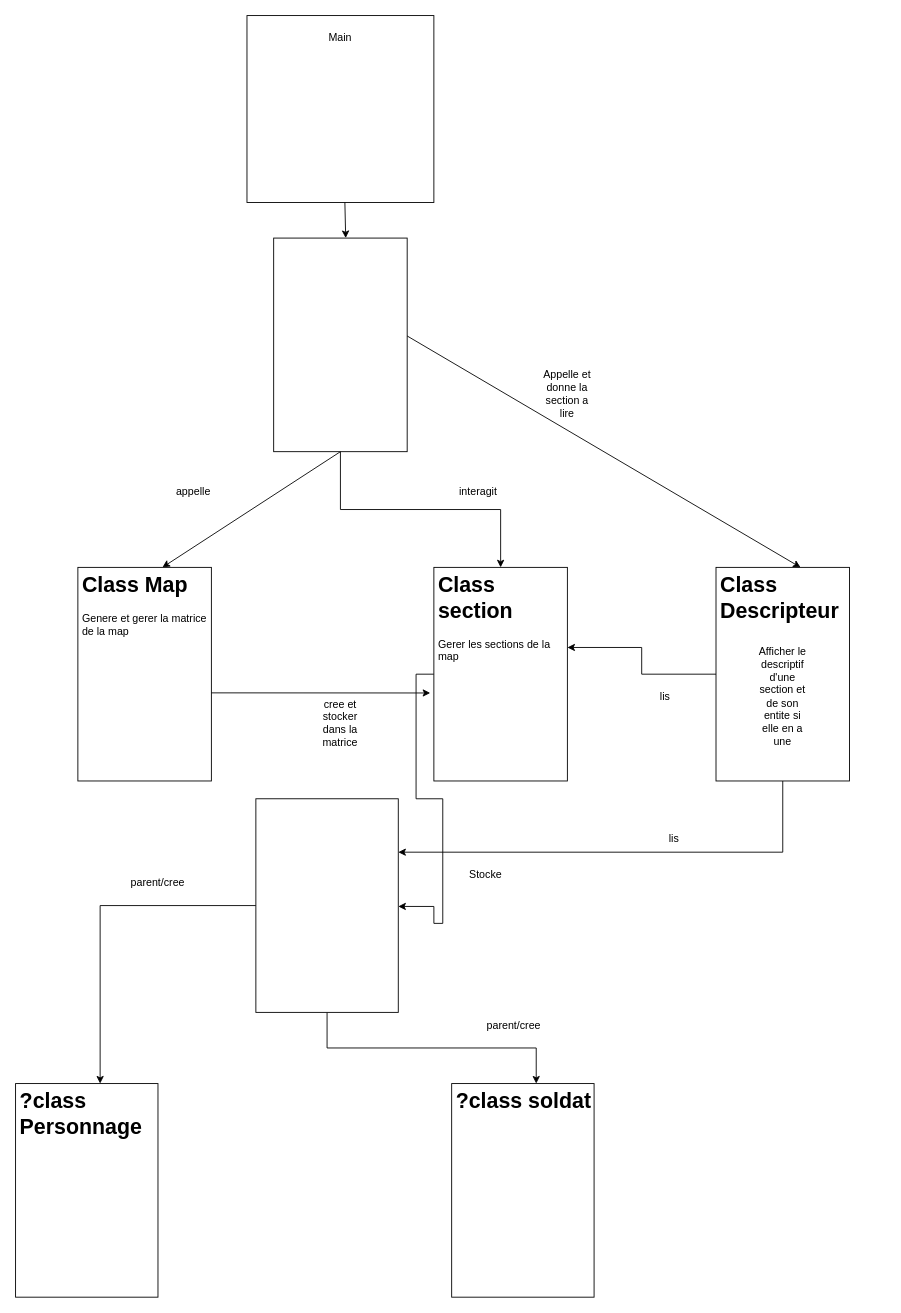
Some shapes in this 901 by 1313 pixel diagram are drawn without their labels. The centre of each missing label's shape, as x and y in pixels:
"Head class Game" goes at [340,344].
"Mother class Entity" goes at [326,905].
